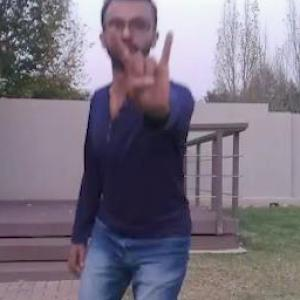takeoff-hand: (100, 19, 188, 113)
